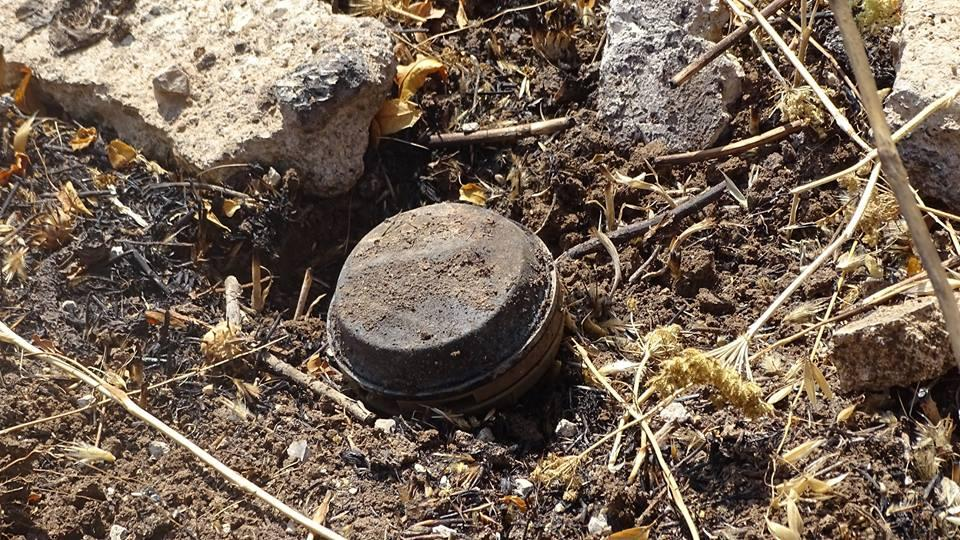pmn: (323, 198, 569, 426)
